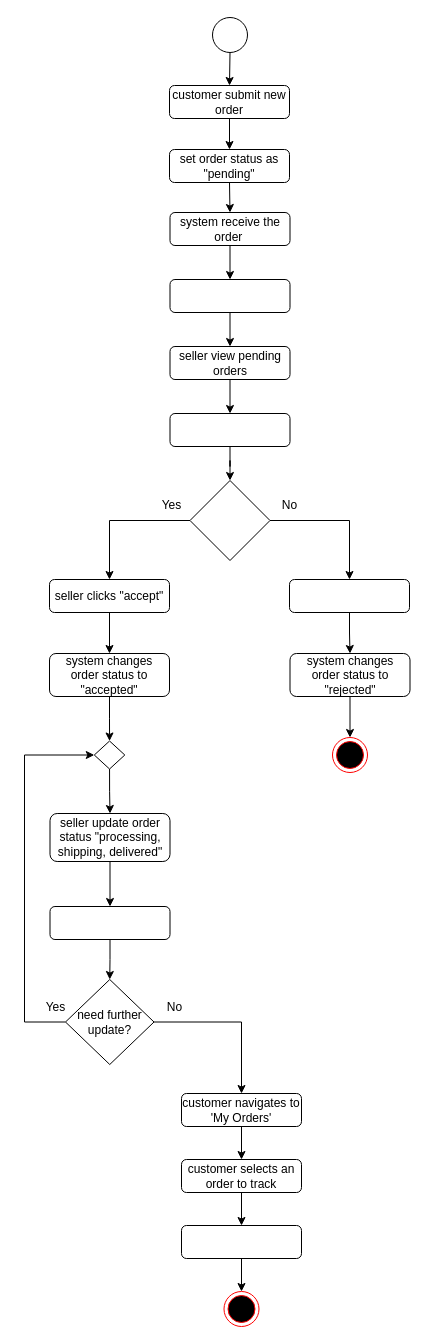
Image size: 428x1344. Some labels were removed from this diagram. The box of each missing label's shape, as (x1, y1, x2, y2) in pixels:
accept the order?: (189, 480, 270, 560)
notify seller of new order: (169, 278, 290, 312)
seller clicks "reject": (288, 578, 410, 612)
seller opens order details: (169, 412, 290, 446)
system displays status to customer: (180, 1224, 302, 1258)
system saves new update: (49, 906, 170, 940)
